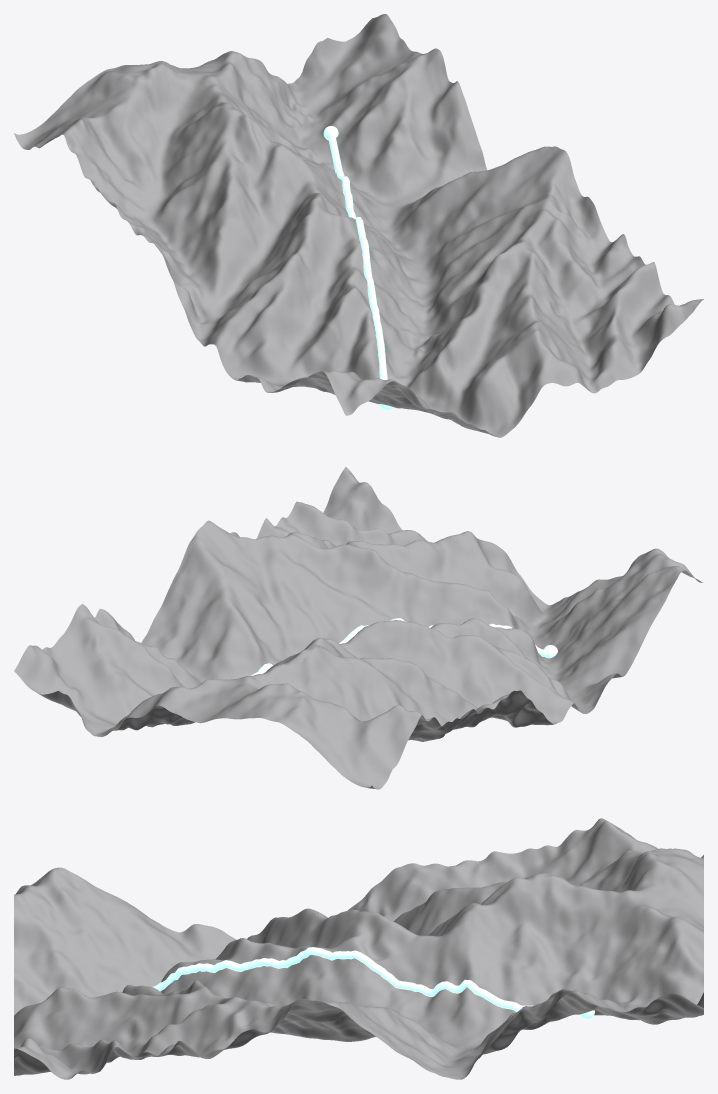
The model's file is site-context.glb.
The picture shows the model from 3 angles, top to bottom: view 1: azimuth 30°, elevation 25°; view 2: azimuth 150°, elevation 25°; view 3: azimuth 270°, elevation 25°; orthographic projection. The views are drawn at different scales.
Visible parts, largest first — view 1: Terrain_TwoPoints, Marker_PointA_30.6231N_79.5584E; view 2: Terrain_TwoPoints, Marker_PointA_30.6231N_79.5584E; view 3: Terrain_TwoPoints, Marker_PointA_30.6231N_79.5584E.
Boxes of the visible parts, x1,y1,x2,y2 form: Terrain_TwoPoints: (14,14,703,437); Marker_PointA_30.6231N_79.5584E: (323,126,392,410); Terrain_TwoPoints: (14,466,703,789); Marker_PointA_30.6231N_79.5584E: (251,618,557,675); Terrain_TwoPoints: (14,818,703,1079); Marker_PointA_30.6231N_79.5584E: (152,947,594,1018).
Size of the model in its own units: 1.5 by 0.6224 by 2.4.
